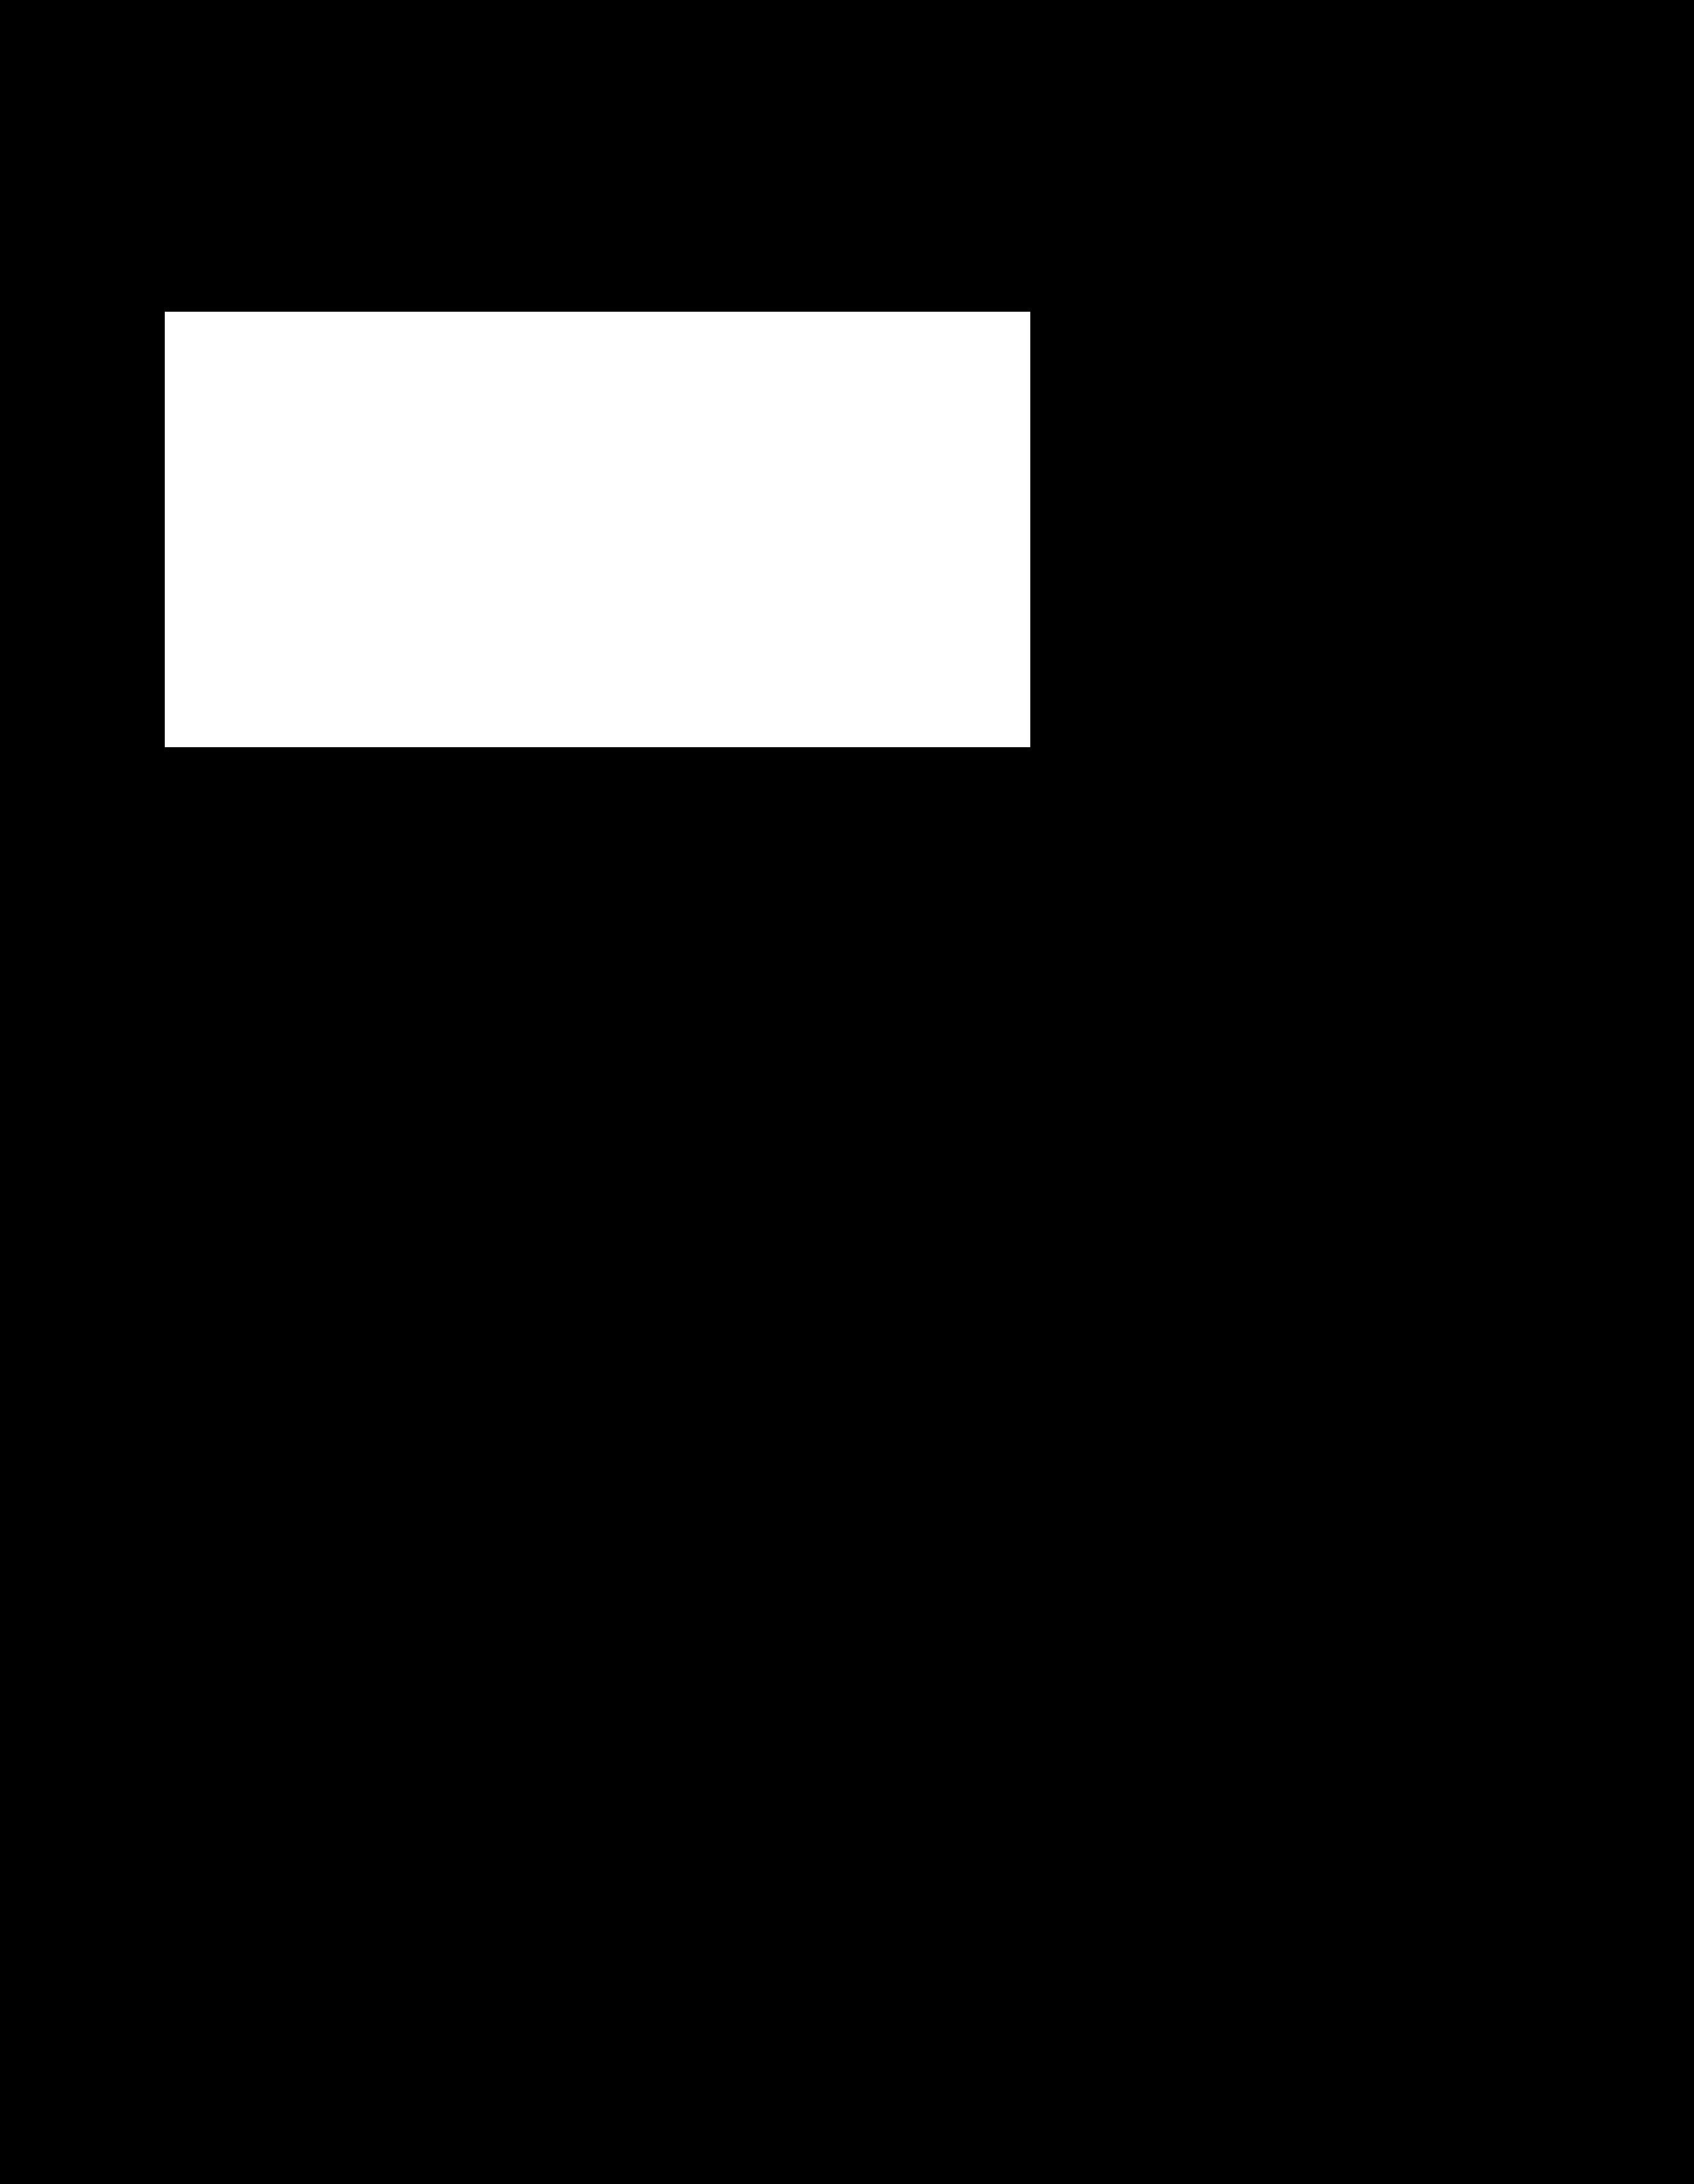table: (165, 312, 1030, 746)
